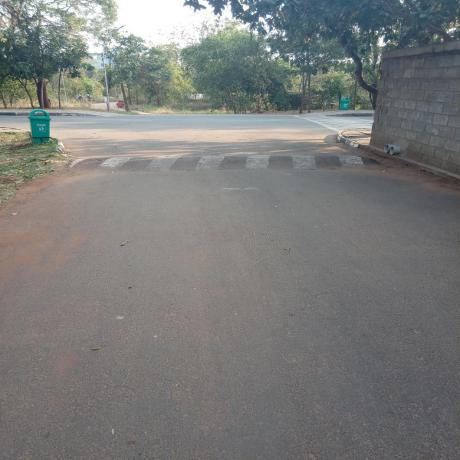Speed Bump: (69, 155, 379, 170)
